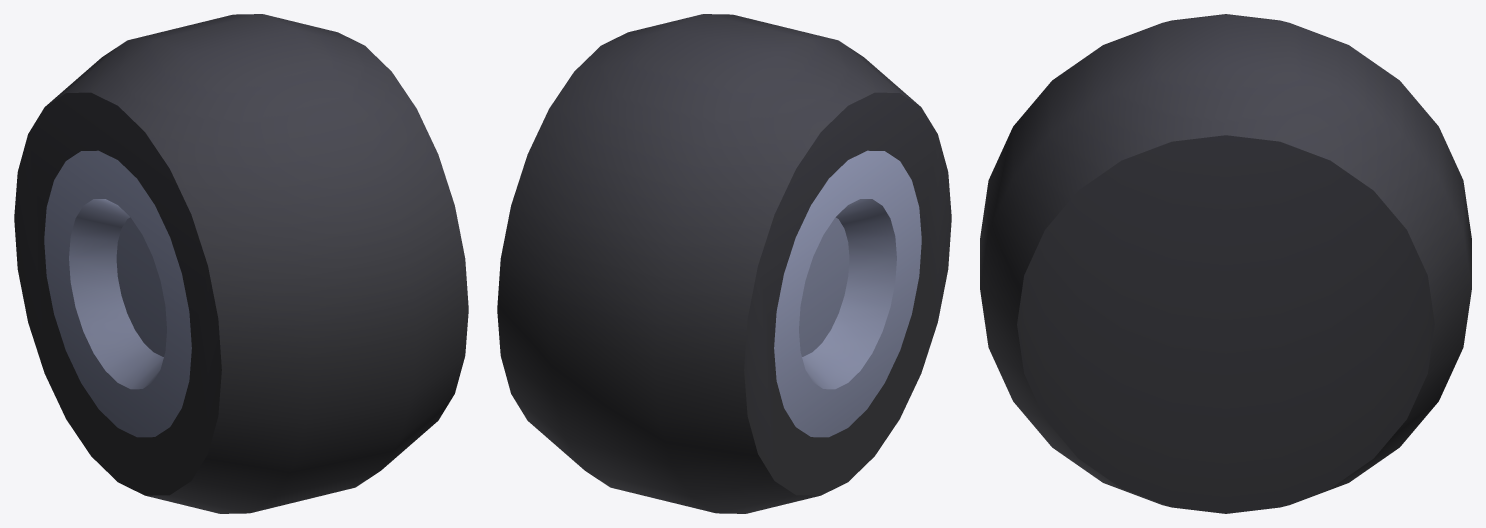
Rendered from auto_wiel.glb.
3 renders of one model, left to right at view 1: azimuth 30°, elevation 25°; view 2: azimuth 150°, elevation 25°; view 3: azimuth 270°, elevation 25°, orthographic.
Visible parts, largest first — view 1: wheel-front-right; view 2: wheel-front-right; view 3: wheel-front-right.
Part boxes in pixels (x1,y1,x2,y2): wheel-front-right: (14, 14, 468, 513); wheel-front-right: (497, 14, 951, 513); wheel-front-right: (980, 14, 1471, 513).
Bounding box in the file's own units: 0.35 × 0.6 × 0.6.
1 material, 1 textured.
